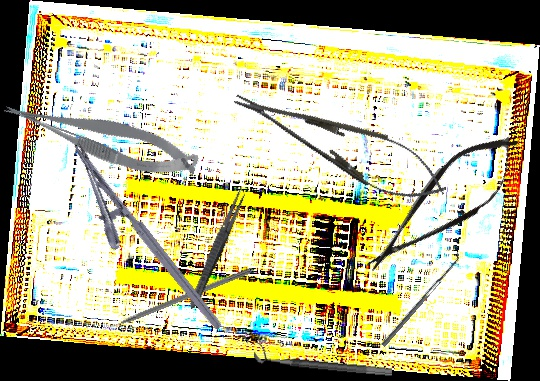Dressing Forceps: (185, 184, 250, 312)
Fixation Ring: (253, 341, 394, 378)
Hook Surgical: (101, 266, 252, 333)
Micro Scissor: (349, 117, 537, 292), (0, 77, 203, 195)
Needle Holder: (47, 141, 224, 351), (224, 71, 457, 217)
Spatula Surgical: (377, 250, 464, 348)
